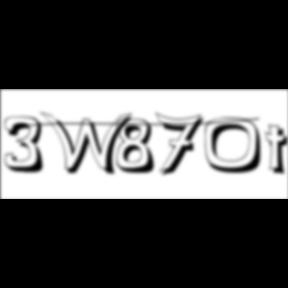3: (5, 116, 51, 176)
7: (156, 111, 210, 179)
8: (116, 117, 162, 176)
O: (204, 117, 270, 176)
W: (40, 110, 138, 178)
